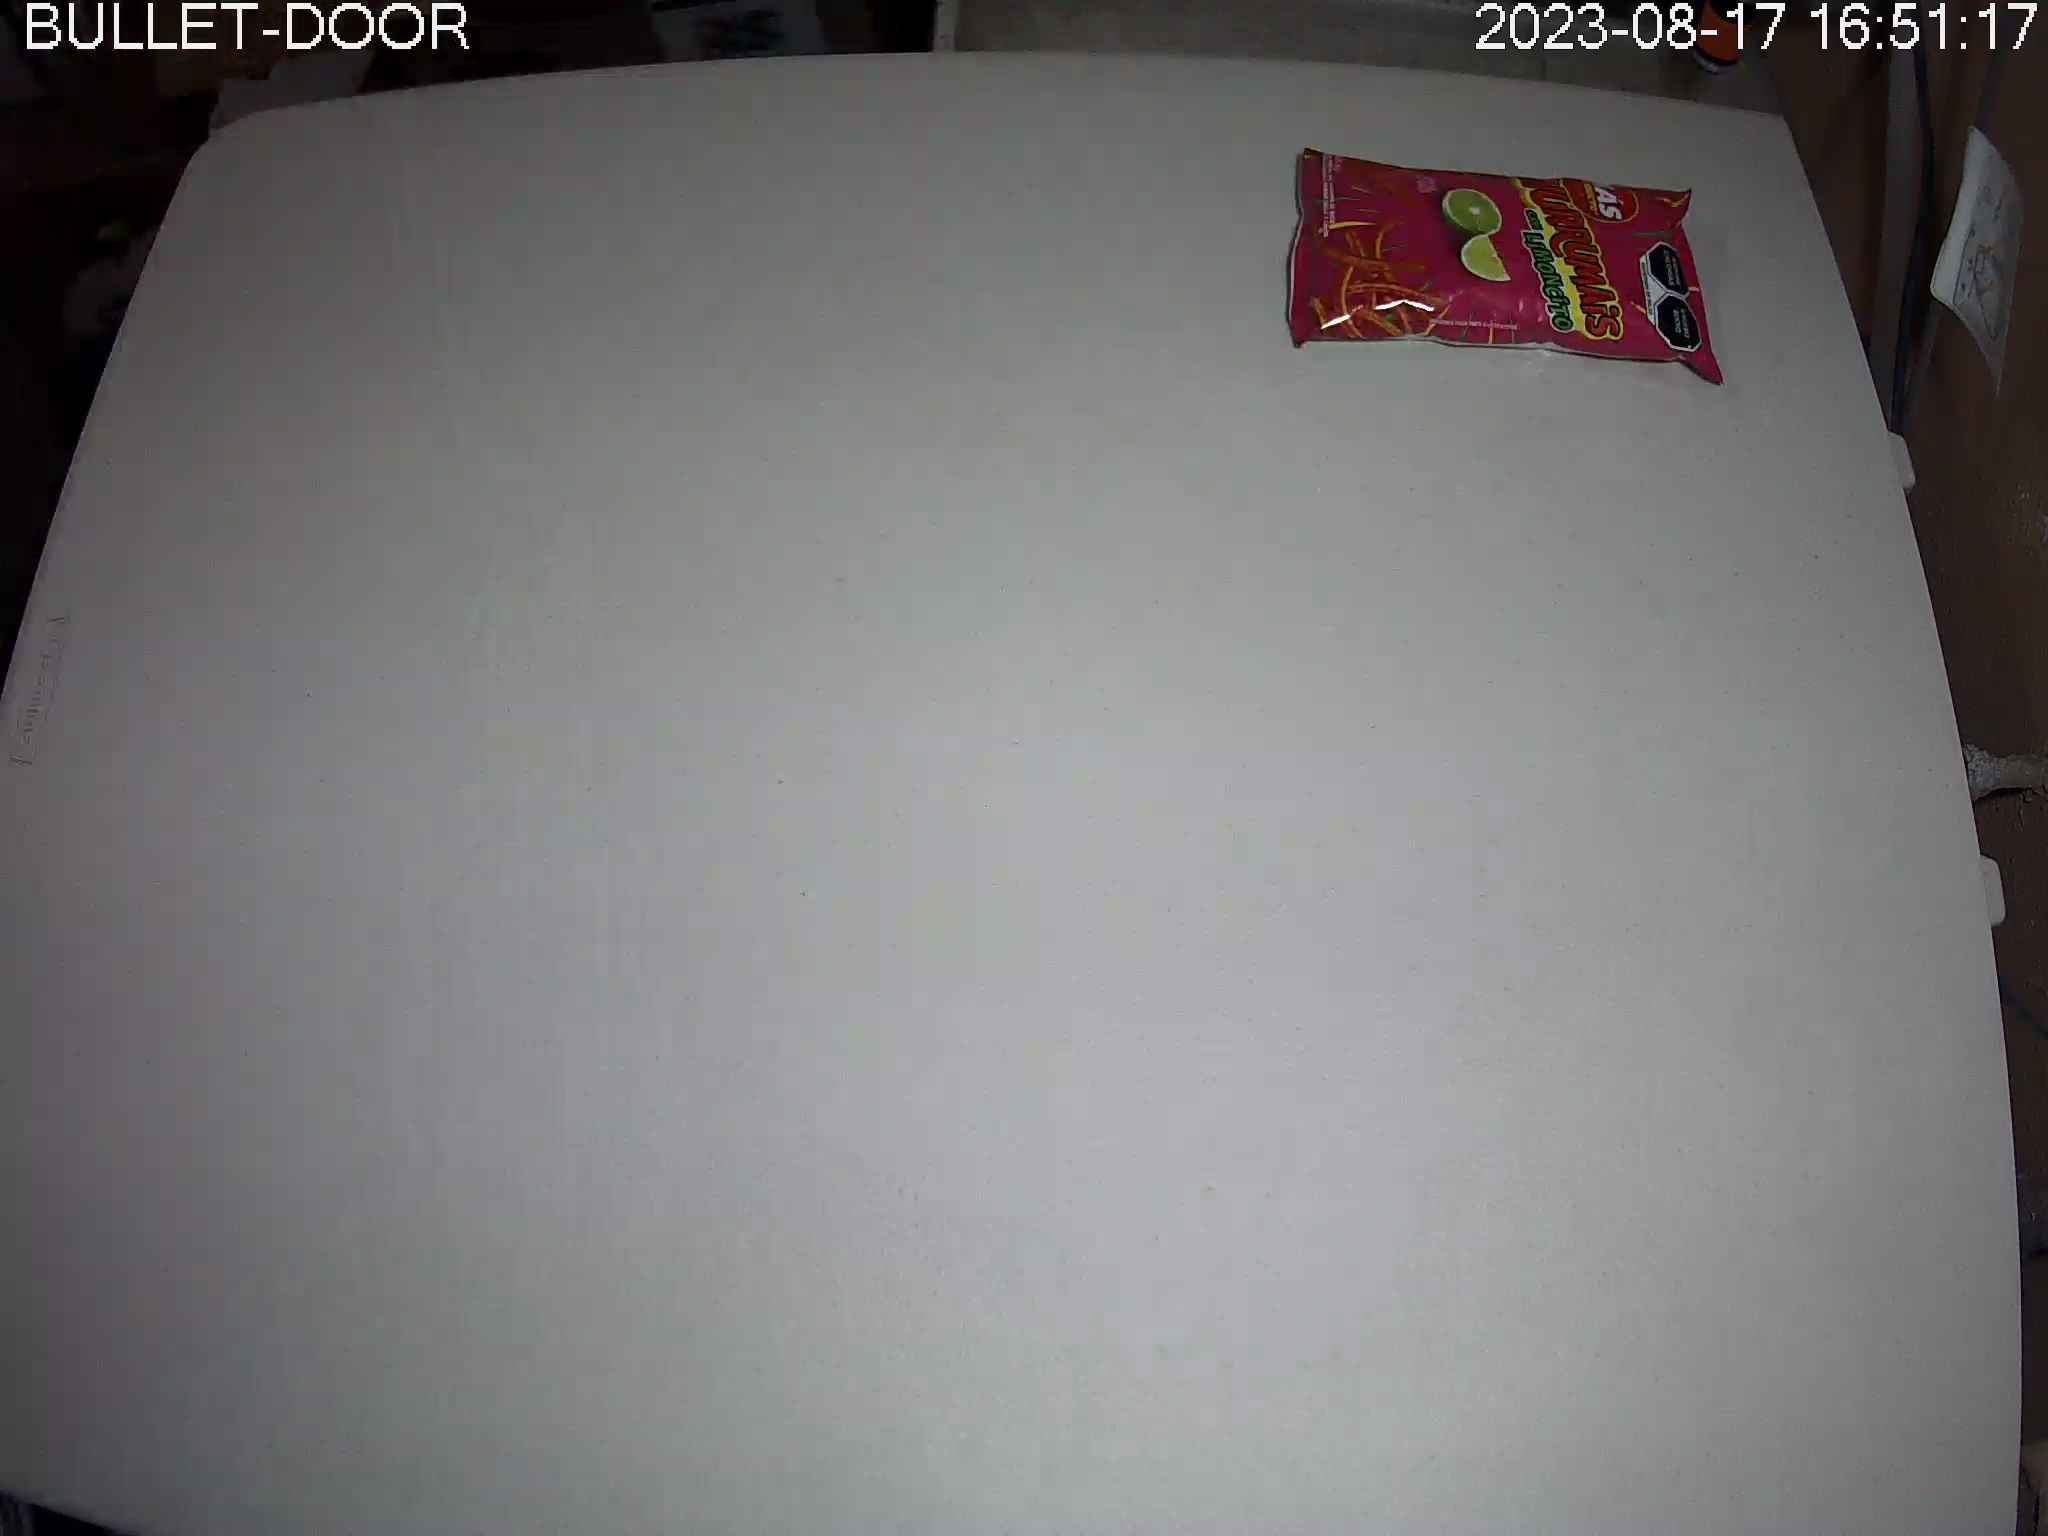Churrumais_70_F: (1284, 148, 1729, 389)
